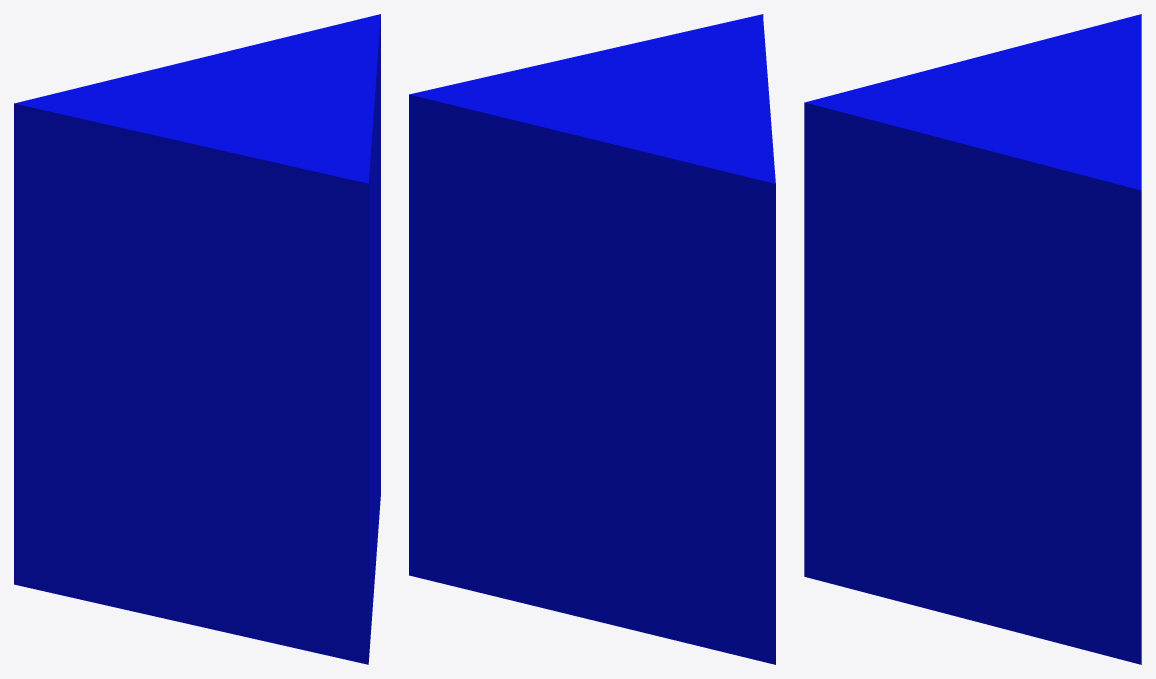
File: 5. Prisma segitiga.fbx
3 renders of one model, left to right at view 1: azimuth 30°, elevation 25°; view 2: azimuth 150°, elevation 25°; view 3: azimuth 270°, elevation 25°, orthographic.
Parts seen in each view (by area): view 1: Cube.002; view 2: Cube.002; view 3: Cube.002.
Boxes of the visible parts, <box> form: Cube.002: <box>14,14,380,664</box>; Cube.002: <box>409,14,775,664</box>; Cube.002: <box>804,14,1141,664</box>.
Size of the model in its own units: 548 by 687 by 443.
